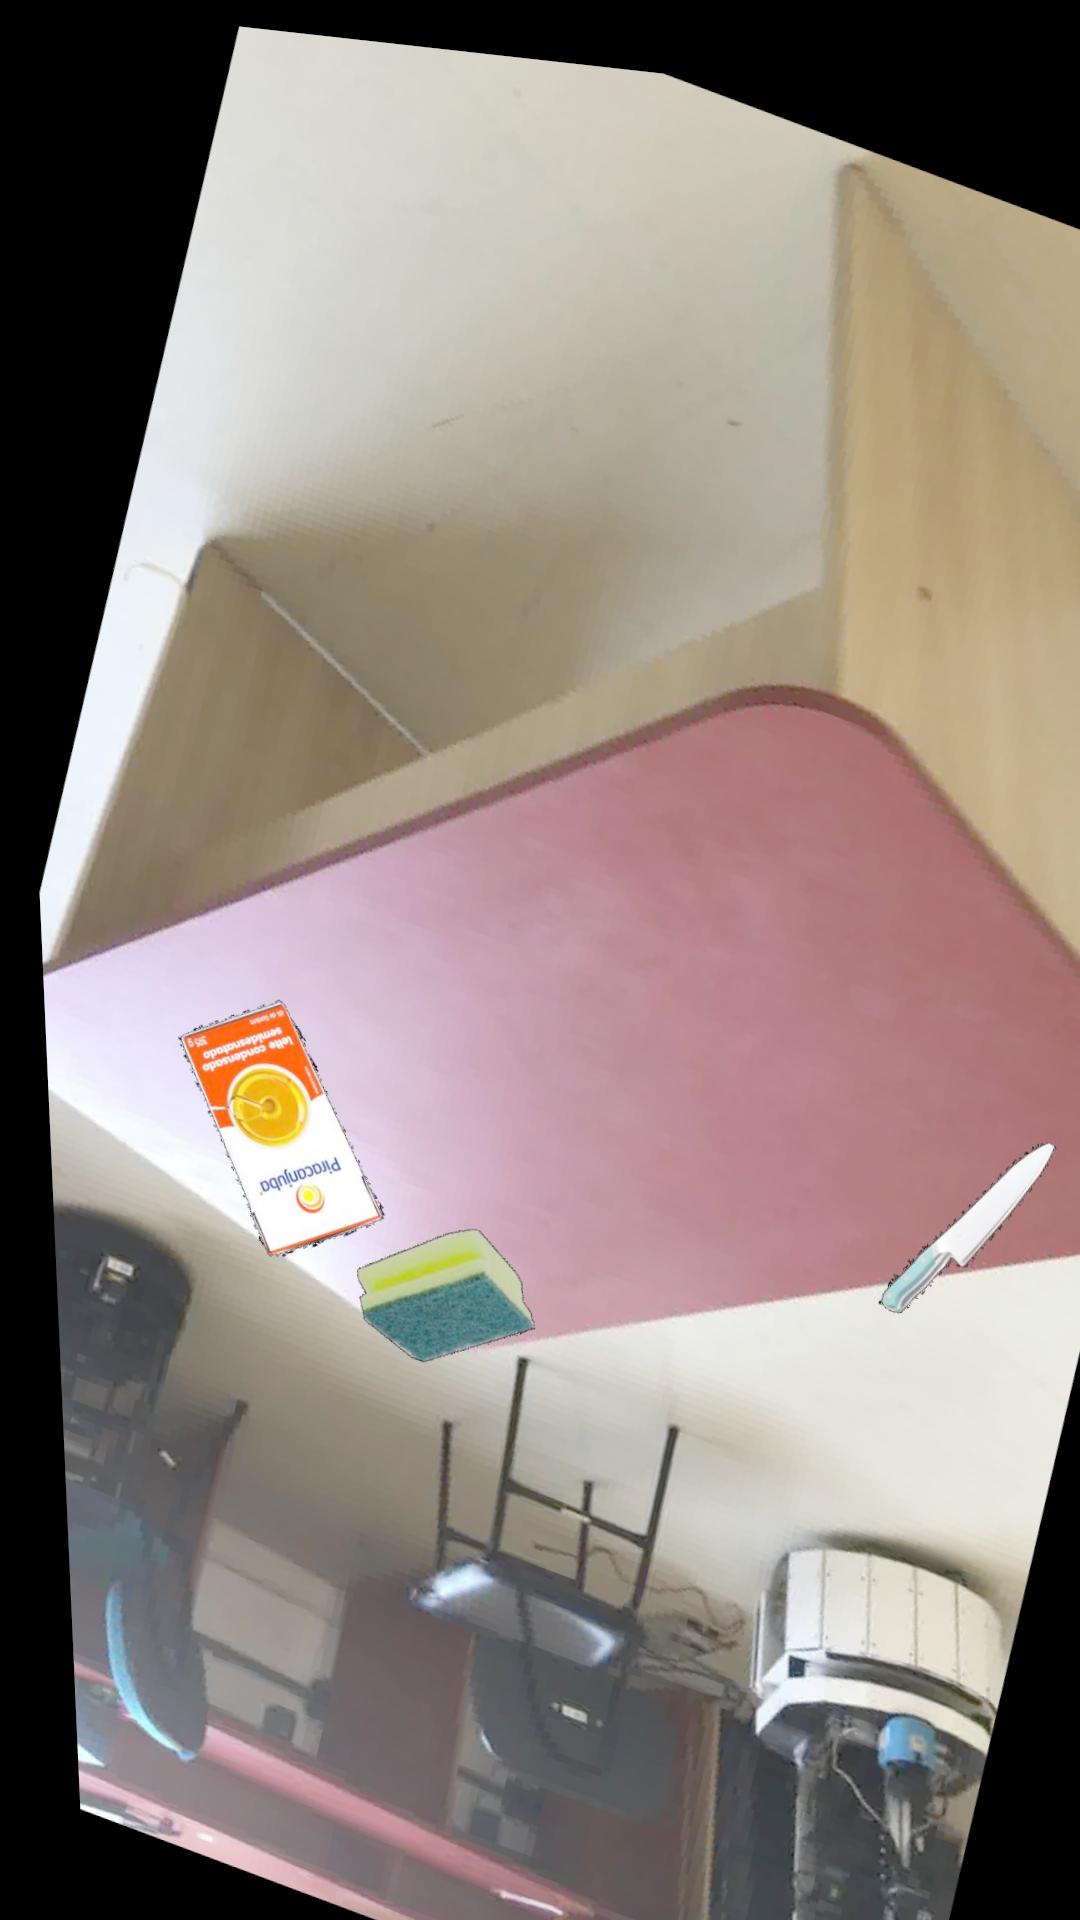knife: (865, 1118, 1043, 1292)
sponge: (343, 1218, 520, 1353)
